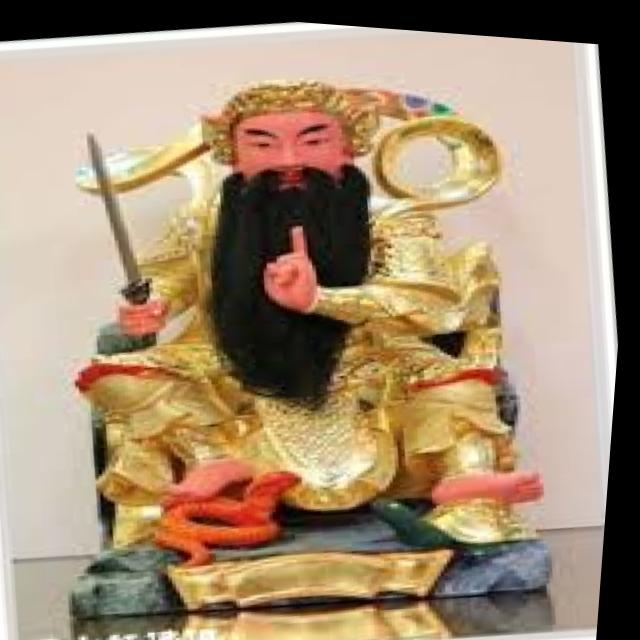Xuan wu: (31, 28, 567, 571)
